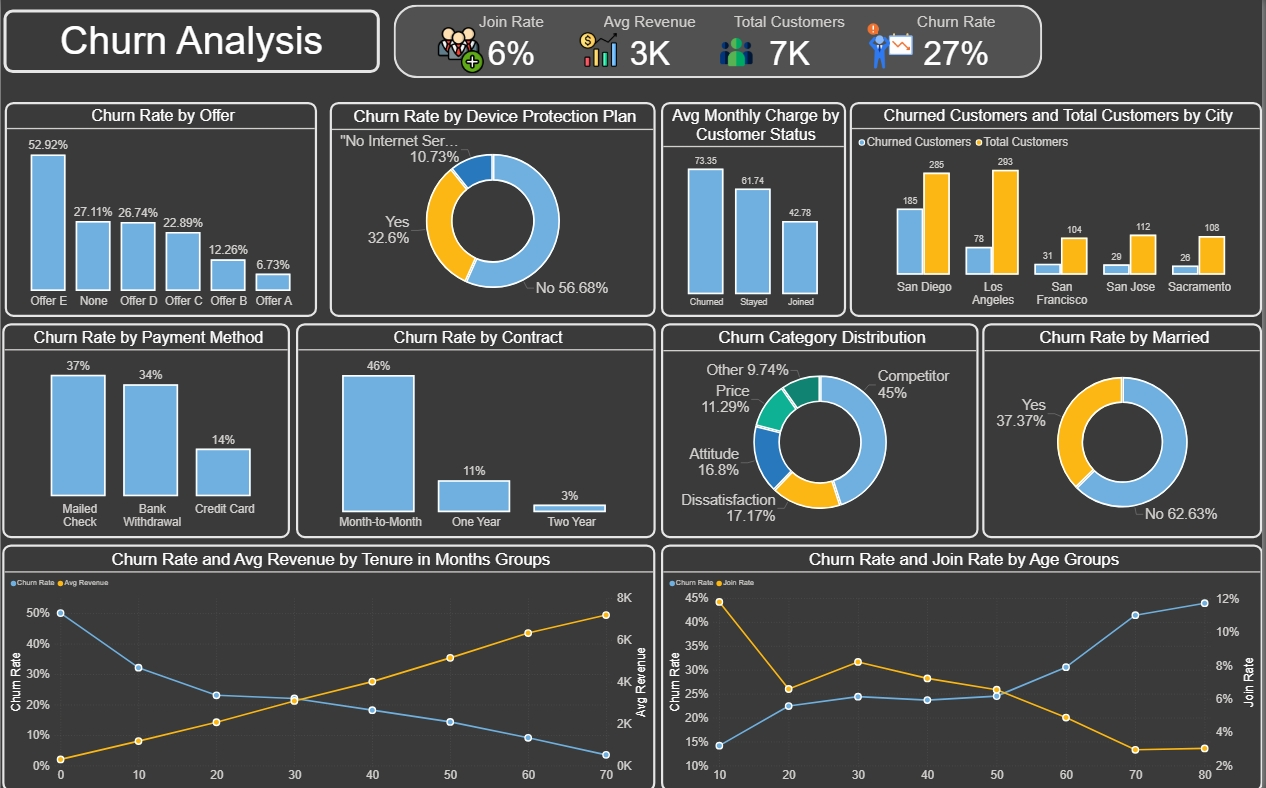

This screenshot's page, from the dashboard's own definition file:
{"tool":"powerbi","page":{"name":"Key Opservations","canvas":[1280,720],"ordinal":0},"visuals":[{"type":"lineChart","fields":{"Y":["measures_table.Churn Rate"],"Category":["Customer Churn.Age Groups"],"Y2":["measures_table.Join Rate"]},"box":[821.1,435.1,459.6,284.2],"z":0},{"type":"donutChart","fields":{"Y":["measures_table.Churn Rate"],"Category":["Customer Churn.Married"]},"box":[971.9,159.6,308.8,270.2],"z":1000},{"type":"donutChart","fields":{"Y":["measures_table.Churn Rate"],"Category":["Customer Churn.Device Protection Plan"]},"box":[317.5,159.6,277.2,270.2],"z":2000},{"type":"clusteredColumnChart","fields":{"Y":["measures_table.Churn Rate"],"Category":["Customer Churn.Offer"]},"box":[333.3,435.1,482.5,284.2],"z":3000},{"type":"columnChart","fields":{"Y":["measures_table.Churn Rate"],"Category":["Customer Churn.Contract"]},"box":[598.2,159.6,370.2,270.2],"z":4000},{"type":"donutChart","fields":{"Category":["Customer Churn.Payment Method"],"Y":["measures_table.Churn Rate"]},"box":[0,435.1,329.8,284.2],"z":5000},{"type":"cardVisual","fields":{"Data":["measures_table.Avg Age"]},"box":[507.4,14,207.8,121.8],"z":6000,"group":"g3"},{"type":"cardVisual","fields":{"Data":["measures_table.Avg Revenue"]},"box":[715.6,14,292.4,134.7],"z":6000,"group":"g2"},{"type":"donutChart","fields":{"Y":["measures_table.Churn by Category"],"Category":["Customer Churn.Churn Category"]},"box":[0,159.6,312.3,270.2],"z":6000},{"type":"group","id":"g1","title":"Group 1","box":[996.1,13.8,263.5,135.2],"z":6001},{"type":"group","id":"g2","title":"Group 1","box":[678.9,14,329.8,135.1],"z":6002},{"type":"group","id":"g3","title":"Group 2","box":[454.4,14,261.4,122.8],"z":6003},{"type":"shape","box":[424.6,14,856.1,135.1],"z":6004},{"type":"textbox","box":[0,26.3,424.6,100],"z":6005},{"type":"cardVisual","fields":{"Data":["measures_table.Churn Rate"]},"box":[1080.3,13.8,179.3,135.2],"z":7000,"group":"g1"},{"type":"image","box":[678.9,58.4,176.1,78.1],"z":8000,"group":"g2"},{"type":"image","box":[996.1,44.2,106.2,92.4],"z":11000,"group":"g1"},{"type":"image","box":[454.4,57,86,78.8],"z":12000,"group":"g3"}]}

Visuals, with their boxes on the page's 1280x720 design canvas (x1, y1, x2, y2). These are canvas units, not pixel positions in the 1266x788 screenshot, which may show the page scaled, cropped or inside an application window:
lineChart - measures_table.Churn Rate x Customer Churn.Age Groups: select_region(821, 435, 1281, 719)
donutChart - measures_table.Churn Rate x Customer Churn.Married: select_region(972, 160, 1281, 430)
donutChart - measures_table.Churn Rate x Customer Churn.Device Protection Plan: select_region(318, 160, 595, 430)
clusteredColumnChart - measures_table.Churn Rate x Customer Churn.Offer: select_region(333, 435, 816, 719)
columnChart - measures_table.Churn Rate x Customer Churn.Contract: select_region(598, 160, 968, 430)
donutChart - Customer Churn.Payment Method x measures_table.Churn Rate: select_region(0, 435, 330, 719)
cardVisual - measures_table.Avg Age: select_region(507, 14, 715, 136)
cardVisual - measures_table.Avg Revenue: select_region(716, 14, 1008, 149)
donutChart - measures_table.Churn by Category x Customer Churn.Churn Category: select_region(0, 160, 312, 430)
"Group 1" group: select_region(996, 14, 1260, 149)
"Group 1" group: select_region(679, 14, 1009, 149)
"Group 2" group: select_region(454, 14, 716, 137)
shape: select_region(425, 14, 1281, 149)
textbox: select_region(0, 26, 425, 126)
cardVisual - measures_table.Churn Rate: select_region(1080, 14, 1260, 149)
image: select_region(679, 58, 855, 136)
image: select_region(996, 44, 1102, 137)
image: select_region(454, 57, 540, 136)
